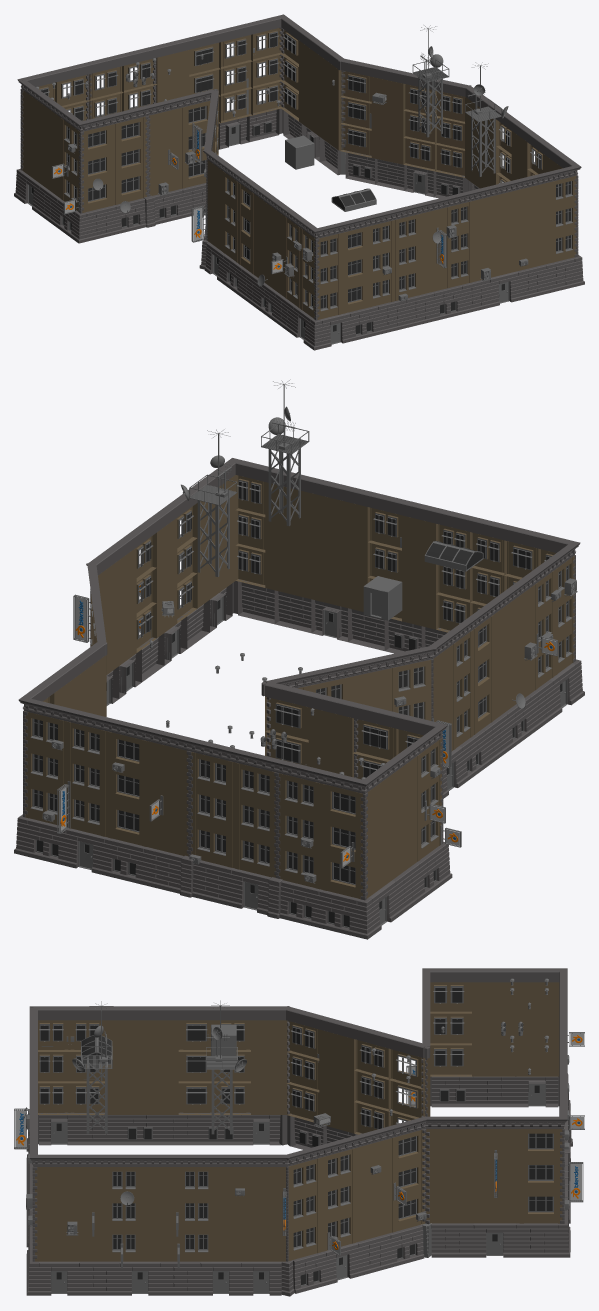
Rendered from buildify_1.0 hedetest bygning3.fbx.
3 views of the same model, one above another, from view 1: azimuth 30°, elevation 25°; view 2: azimuth 150°, elevation 25°; view 3: azimuth 270°, elevation 25° (orthographic). The views are drawn at different scales.
Parts seen in each view (by area): view 1: antenna_big.003, antenna_big.004, middle_floor_wall_01.238, middle_floor_wall_01.237, middle_floor_wall_02.232, middle_floor_wall_02.240, middle_floor_wall_02.238, ground_floor_wall_03.023, ground_floor_wall_03.022, middle_floor_wall_03.116, middle_floor_wall_01.242, middle_floor_wall_03.114 (+125 smaller); view 2: antenna_big.004, antenna_big.003, middle_floor_wall_01.197, ground_floor_wall_03.024, ground_floor_wall_01.023, middle_floor_wall_02.188, middle_floor_wall_02.191, middle_floor_wall_02.186, ground_floor_wall_03.011, ground_floor_wall_03.012, middle_floor_wall_02.184, middle_floor_wall_02.185 (+107 smaller); view 3: antenna_big.003, antenna_big.004, ground_floor_wall_02.017, ground_floor_wall_02.016, ground_floor_wall_01.010, middle_floor_wall_01.183, middle_floor_wall_01.190, middle_floor_wall_01.194, middle_floor_wall_01.192, middle_floor_wall_01.187, ground_floor_wall_01.020, ground_floor_wall_02.031 (+130 smaller).
Boxes of the visible parts, box(x1,y1,x2,y2) form: antenna_big.003: box(412, 25, 449, 137); antenna_big.004: box(465, 62, 508, 176); middle_floor_wall_01.238: box(371, 104, 405, 137); middle_floor_wall_01.237: box(371, 131, 405, 164); middle_floor_wall_02.232: box(403, 136, 434, 171); middle_floor_wall_02.240: box(219, 60, 252, 95); middle_floor_wall_02.238: box(219, 87, 252, 122); ground_floor_wall_03.023: box(246, 108, 279, 141); ground_floor_wall_03.022: box(345, 151, 377, 184); middle_floor_wall_03.116: box(114, 116, 146, 150); middle_floor_wall_01.242: box(157, 50, 189, 84); middle_floor_wall_03.114: box(114, 143, 146, 177); antenna_big.004: box(261, 379, 309, 526); antenna_big.003: box(181, 429, 237, 576); middle_floor_wall_01.197: box(308, 707, 353, 752); ground_floor_wall_03.024: box(103, 837, 144, 884); ground_floor_wall_01.023: box(64, 828, 106, 874); middle_floor_wall_02.188: box(233, 762, 275, 807); middle_floor_wall_02.191: box(279, 773, 321, 818); middle_floor_wall_02.186: box(233, 797, 275, 842); ground_floor_wall_03.011: box(279, 880, 320, 927); ground_floor_wall_03.012: box(317, 889, 358, 936); middle_floor_wall_02.184: box(233, 833, 275, 877); middle_floor_wall_02.185: box(191, 787, 233, 832); antenna_big.003: box(206, 1000, 246, 1134); antenna_big.004: box(72, 1001, 113, 1133); ground_floor_wall_02.017: box(431, 1223, 473, 1257); ground_floor_wall_02.016: box(516, 1223, 558, 1257); ground_floor_wall_01.010: box(473, 1223, 515, 1257); middle_floor_wall_01.183: box(472, 1192, 517, 1223); middle_floor_wall_01.190: box(472, 1045, 517, 1076); middle_floor_wall_01.194: box(472, 982, 517, 1013); middle_floor_wall_01.192: box(472, 1013, 517, 1045); middle_floor_wall_01.187: box(472, 1129, 517, 1160); ground_floor_wall_01.020: box(200, 1261, 241, 1295); ground_floor_wall_02.031: box(79, 1261, 119, 1295).
Size of the model in its own units: 4172 by 2368 by 4927.
